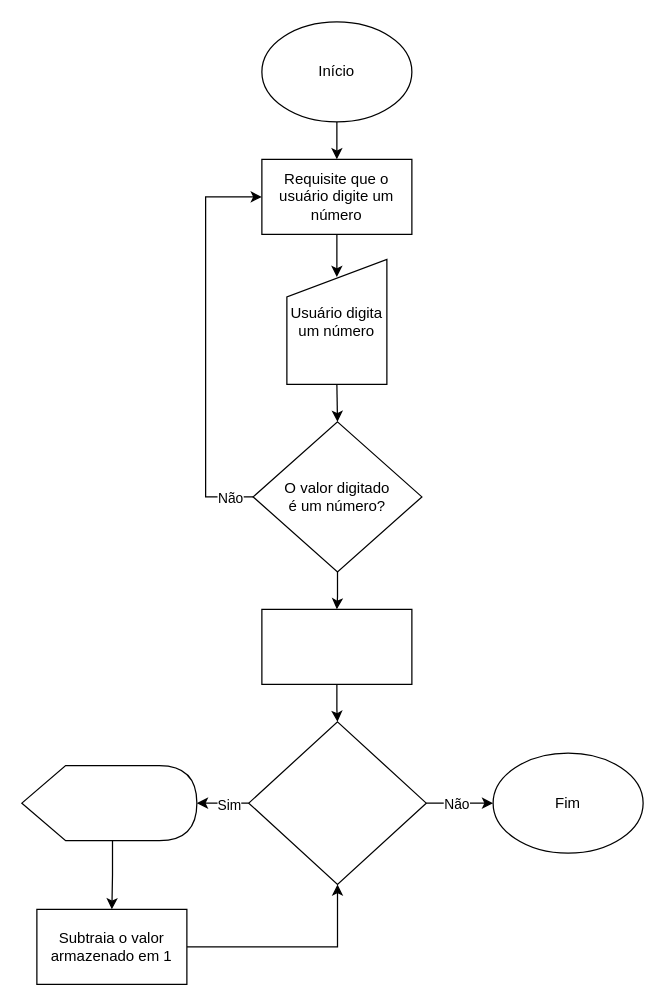
This 665x1006 diagram has some shape labels left out. The shapes that lost their labels are listed below. From the top down, each one's centre as x and y in pixels, then its label:
At pixel 336 646: "Armazene o valor digitado".
At pixel 109 802: "Exiba o valor armazenado".
At pixel 337 802: "0 é menor ou igual que o valor armazenado?".
